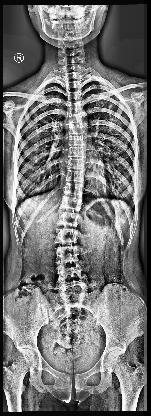Vertebrae: (57, 281, 85, 301), (54, 227, 80, 245), (54, 246, 80, 264), (56, 261, 82, 279), (60, 195, 84, 211), (56, 212, 82, 226), (64, 170, 86, 184), (64, 181, 84, 195), (66, 158, 86, 170), (66, 102, 84, 114), (66, 112, 84, 124), (67, 124, 85, 136), (64, 90, 82, 102), (66, 136, 86, 146), (68, 146, 84, 158), (65, 80, 81, 92)
